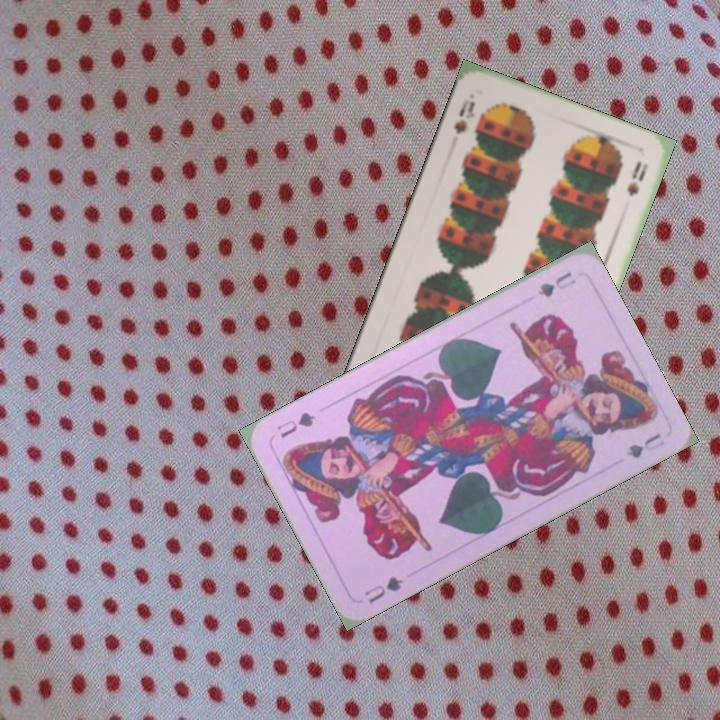GU: (360, 572, 406, 606), (533, 268, 579, 300)
S8: (450, 95, 478, 137)
